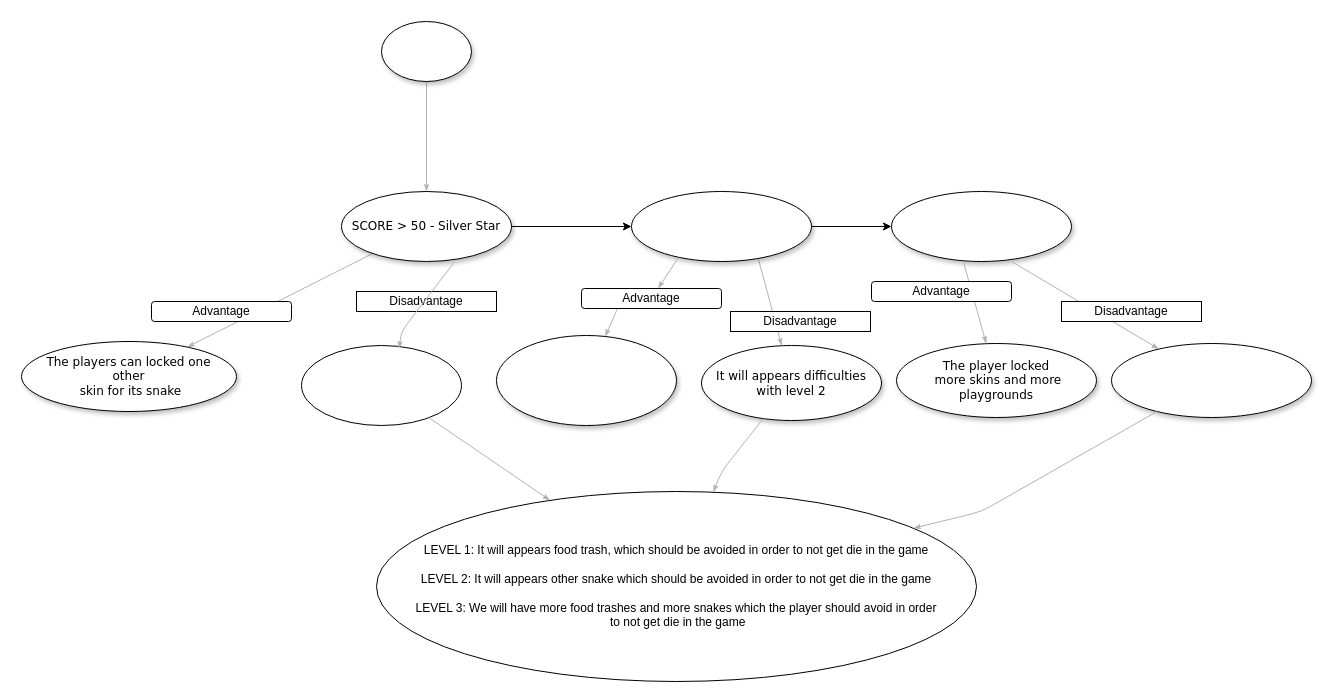
Some shapes in this 1335 by 699 pixel diagram are drawn without their labels. The shapes that lost their labels are listed below. From the top down, each one's centre as x and y in pixels, then its label:
[427,52]: START SCORE = 0
[722,227]: SCORE > 100 - Bronze Star
[982,227]: SCORE > 100 - Bronze Stare 3
[381,385]: It will appears difficulties with level 1
[587,381]: The player locked one other play ground
[1212,381]: It will appears difficulties with level 3
